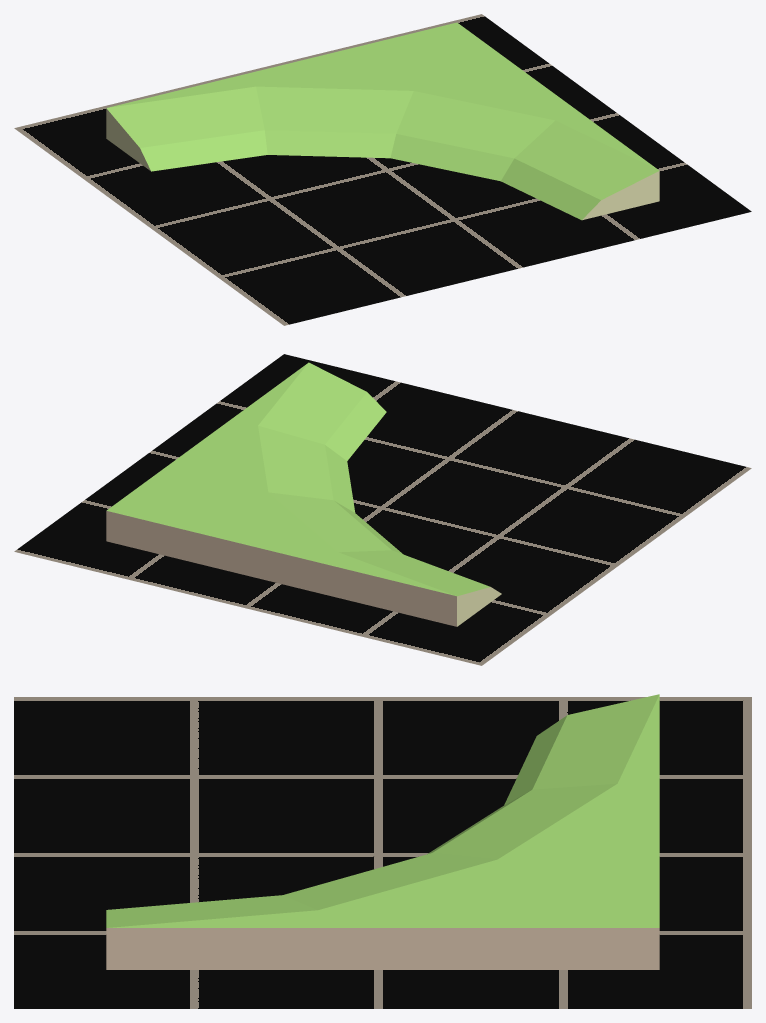
Rendered from Grass_Carpet_Curve_Inner_3x3.glb.
3 renders of one model, top to bottom at view 1: azimuth 30°, elevation 25°; view 2: azimuth 150°, elevation 25°; view 3: azimuth 270°, elevation 25°, orthographic. The views are drawn at different scales.
Visible parts, largest first — view 1: Floor, Grass_Carpet_Curve_Inner_3x3; view 2: Floor, Grass_Carpet_Curve_Inner_3x3; view 3: Floor, Grass_Carpet_Curve_Inner_3x3.
Boxes of the visible parts, x1,y1,x2,y2 form: Floor: (14,14,751,325); Grass_Carpet_Curve_Inner_3x3: (106,22,659,220); Floor: (14,354,751,665); Grass_Carpet_Curve_Inner_3x3: (106,362,501,626); Floor: (14,697,751,1008); Grass_Carpet_Curve_Inner_3x3: (106,694,659,969).
Bounding box in the file's own units: 400 × 25 × 400.
Materials: 5 (1 with a texture image).
